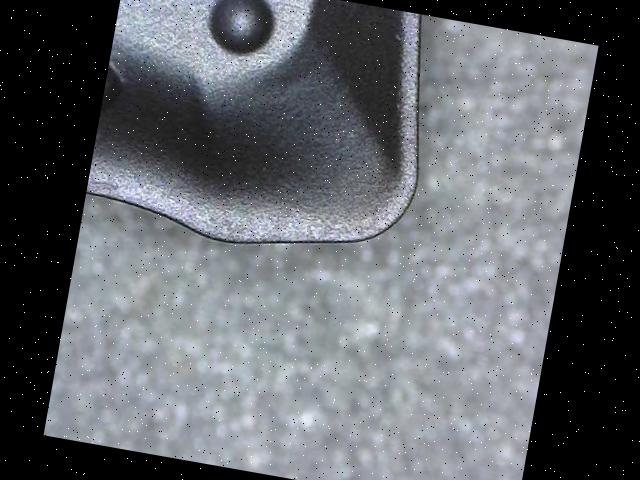normal: (86, 10, 417, 241)
